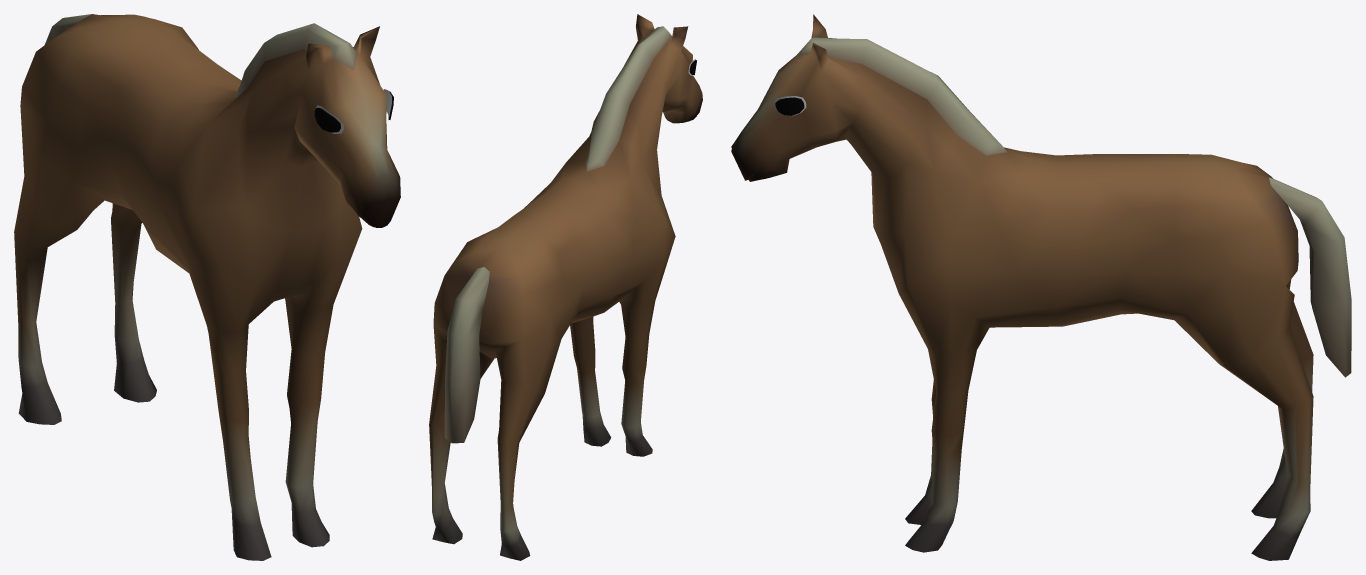
Rendered from animals-animals-palominohorse_v1.fbx.
The picture shows the model from 3 angles, left to right: view 1: azimuth 30°, elevation 25°; view 2: azimuth 150°, elevation 25°; view 3: azimuth 270°, elevation 25°; orthographic projection. The views are drawn at different scales.
Parts seen in each view (by area): view 1: PalominoHorse.001; view 2: PalominoHorse.001; view 3: PalominoHorse.001.
Boxes of the visible parts, x1,y1,x2,y2 form: PalominoHorse.001: (14, 14, 400, 560); PalominoHorse.001: (429, 14, 702, 560); PalominoHorse.001: (731, 14, 1351, 560).
Size of the model in its own units: 0.5605 by 1.91 by 2.14.
